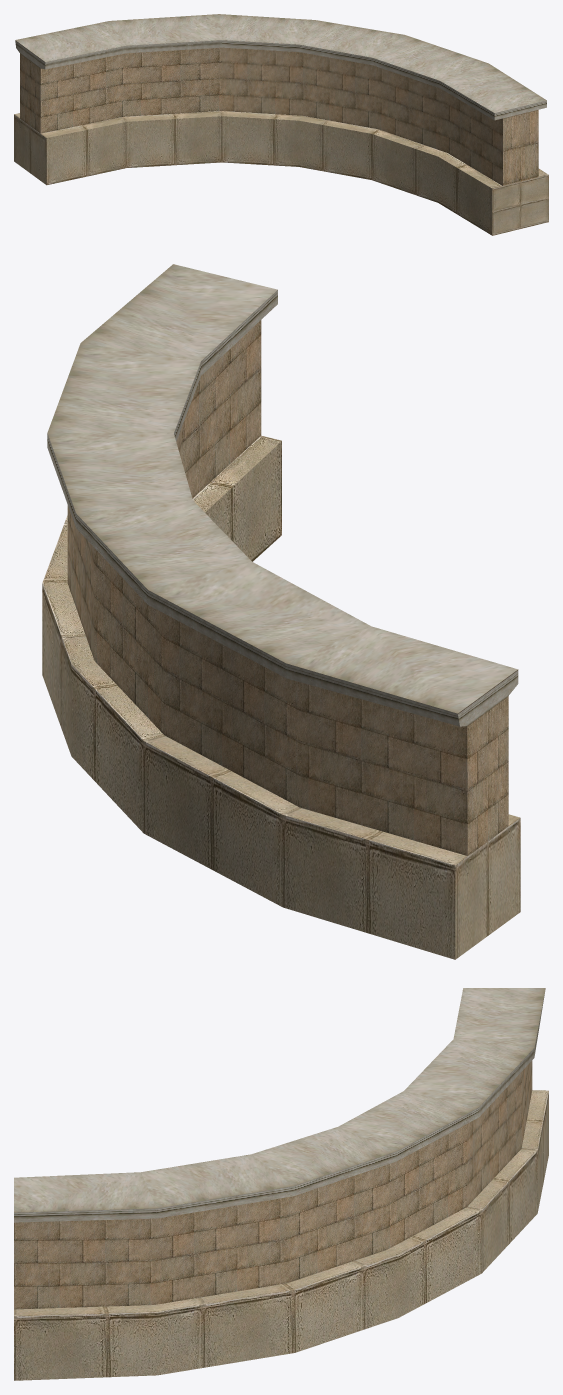
Rendered from thm_nboo_imprv_tall_curved_wall_large_s01_l0.fbx.
3 renders of one model, top to bottom at view 1: azimuth 30°, elevation 25°; view 2: azimuth 150°, elevation 25°; view 3: azimuth 270°, elevation 25°, orthographic. The views are drawn at different scales.
Visible parts, largest first — view 1: mesh_node; view 2: mesh_node; view 3: mesh_node.
Boxes of the visible parts, x1,y1,x2,y2 form: mesh_node: [14, 14, 548, 235]; mesh_node: [42, 264, 520, 959]; mesh_node: [14, 988, 548, 1380].
Size of the model in its own units: 8.72 by 3.01 by 8.73.
